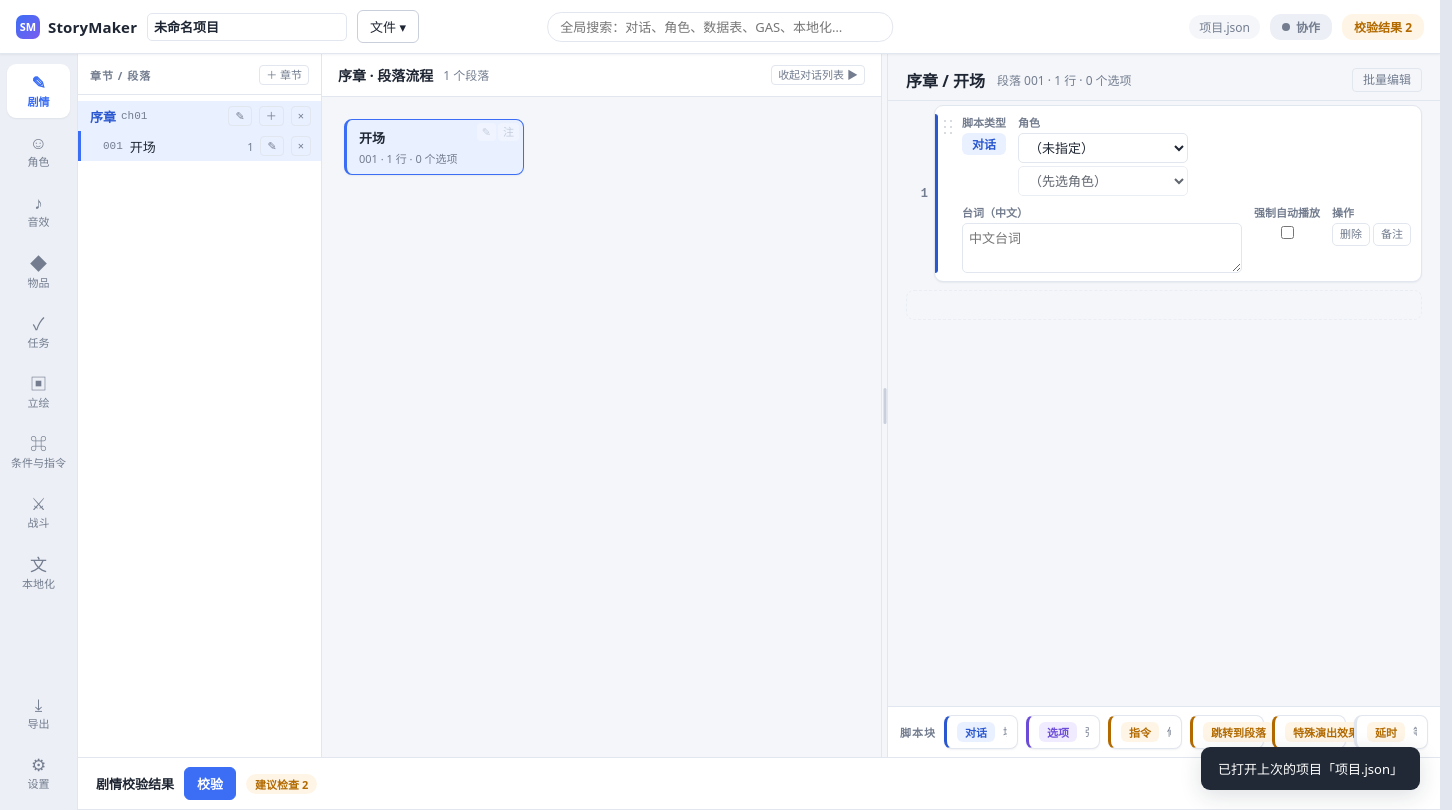
Test: 界面冒烟测试 › 能切换到本地化模块，并列出默认那行的文本 key
Expected: the field titled "项目名称，也是导出文件名" is shown, 147,12 -> 347,40
Click the text "本地化": [38, 583] box 22,576 -> 55,590
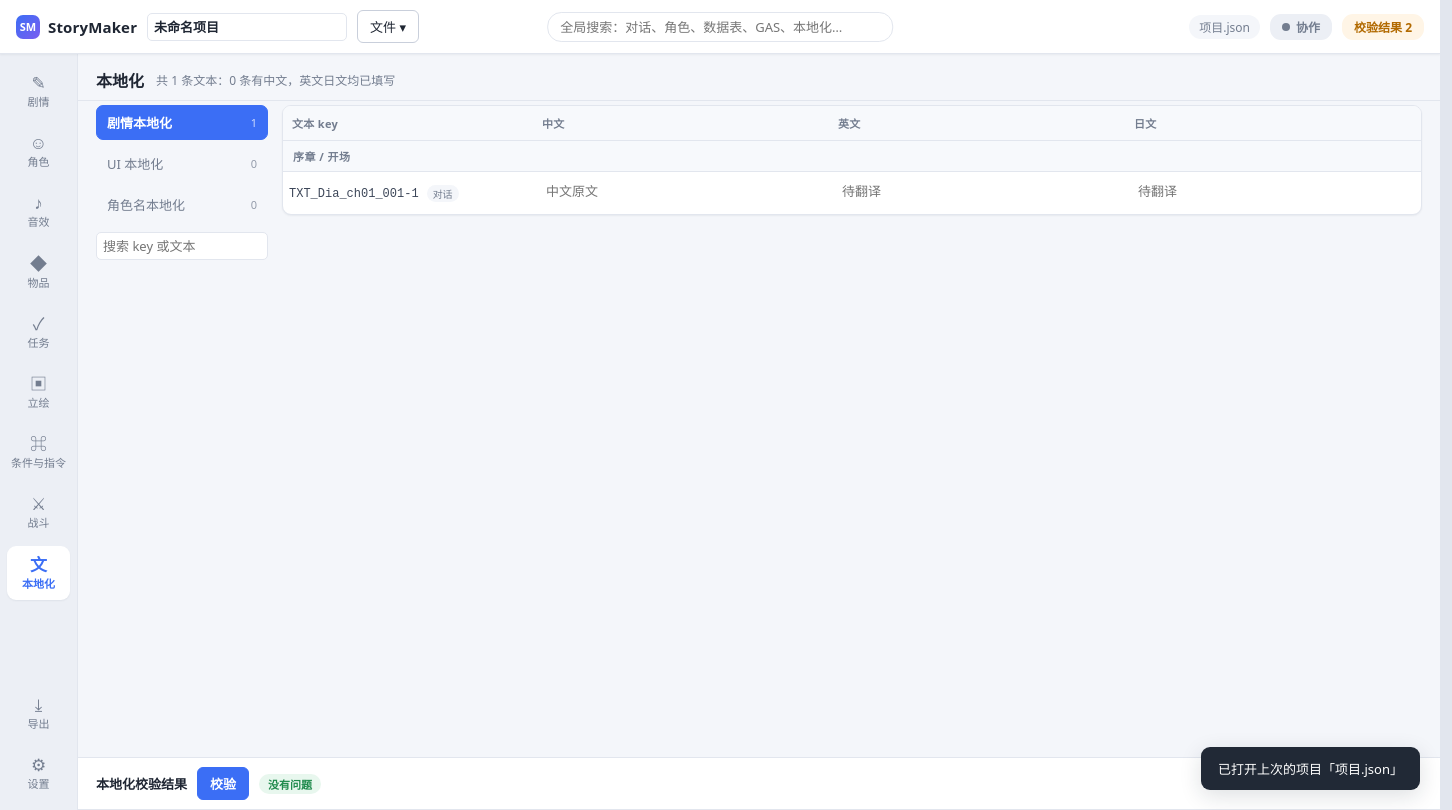
Expected: the text "TXT_Dia_ch01_001-1" is shown, 289,186 -> 419,200
